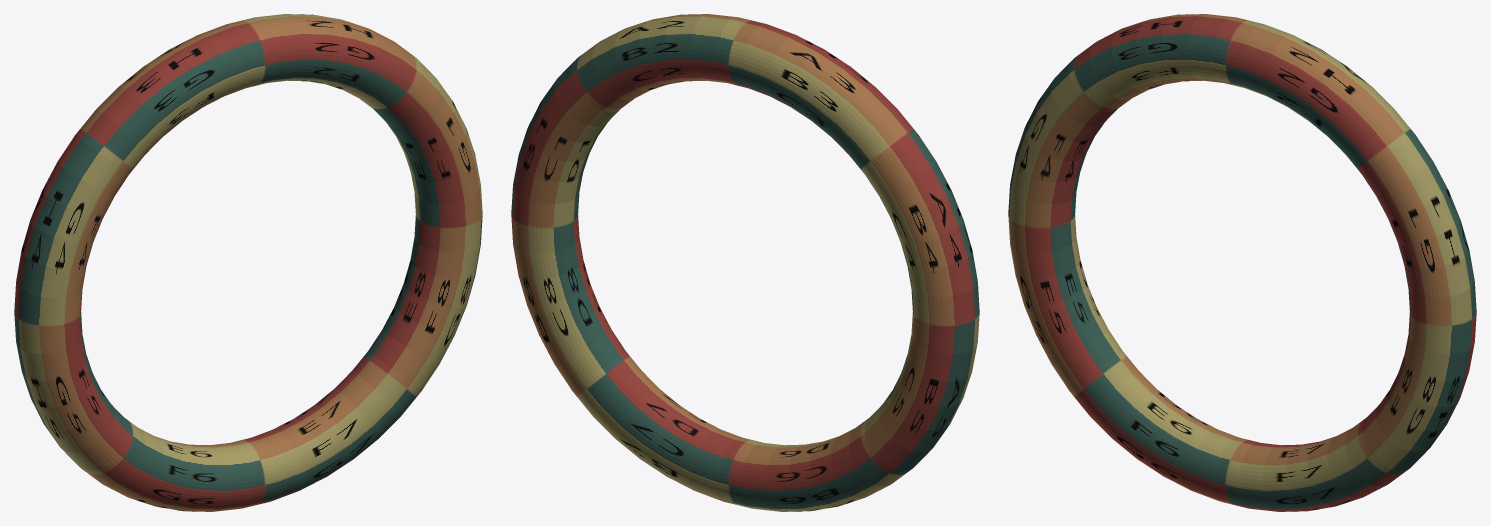
The model's file is texture_torus_R28_r8.glb.
3 renders of one model, left to right at view 1: azimuth 30°, elevation 25°; view 2: azimuth 150°, elevation 25°; view 3: azimuth 330°, elevation 25°, orthographic.
Parts seen in each view (by area): view 1: world; view 2: world; view 3: world.
Boxes of the visible parts, x1,y1,x2,y2 form: world: [14, 14, 482, 511]; world: [511, 14, 979, 511]; world: [1008, 14, 1476, 511].
Bounding box in the file's own units: 32.8 × 32.74 × 4.13.
1 material, 1 textured.
